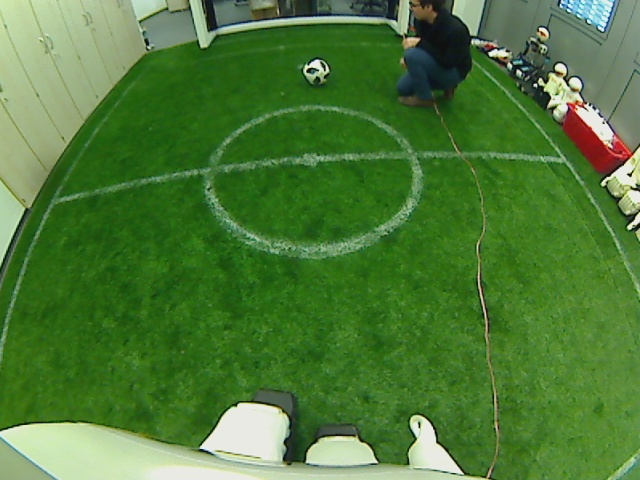ball: (301, 55, 332, 86)
